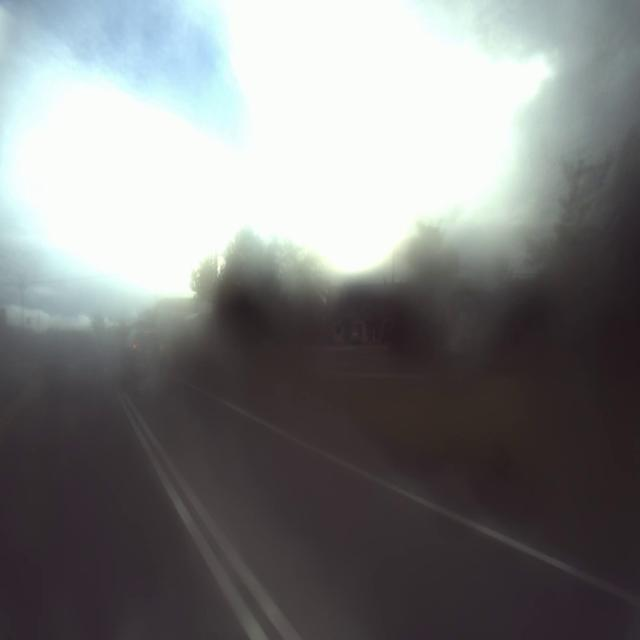car: (124, 321, 168, 377)
